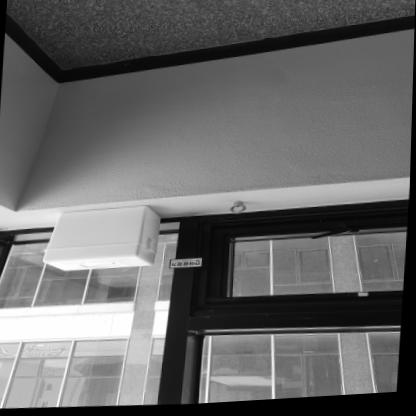DDL: (45, 203, 163, 276)
